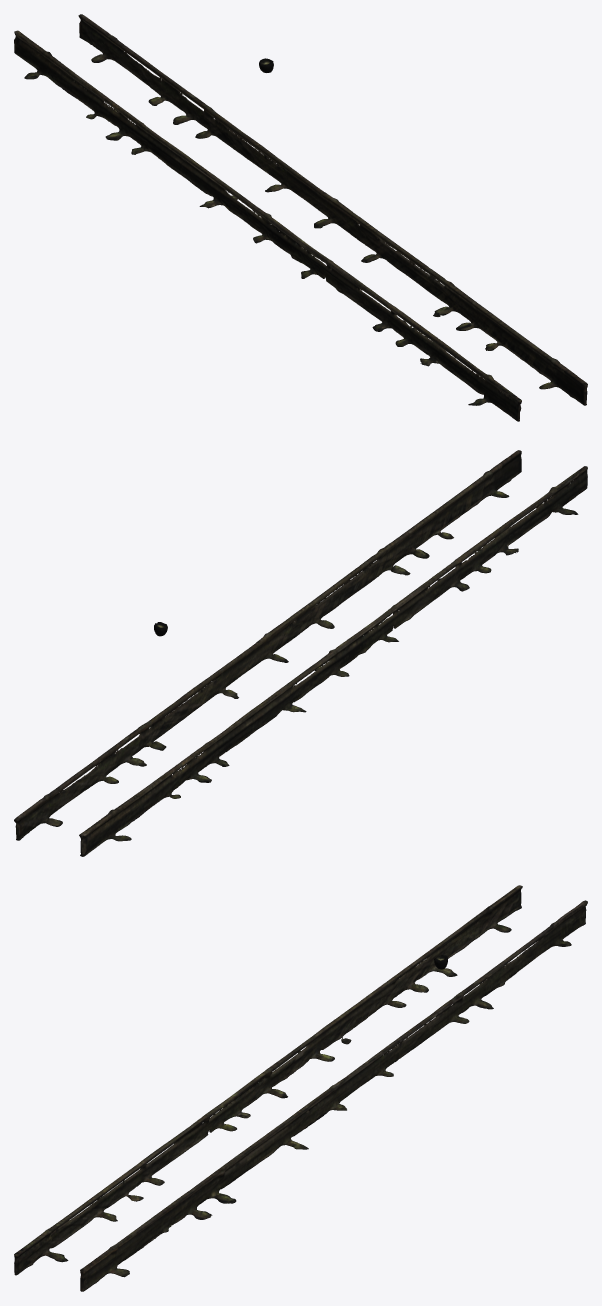
File: Train_rails_A_dark__0423151558_refine.fbx
3 renders of one model, top to bottom at view 1: azimuth 30°, elevation 25°; view 2: azimuth 150°, elevation 25°; view 3: azimuth 330°, elevation 25°, orthographic.
Visible parts, largest first — view 1: Mesh1; view 2: Mesh1; view 3: Mesh1.
Part boxes in pixels (x1,y1,x2,y2): Mesh1: [14, 14, 587, 421]; Mesh1: [14, 450, 587, 856]; Mesh1: [14, 885, 587, 1291].
Bounding box in the file's own units: 26.13 × 20.56 × 201.
1 material, 1 textured.
